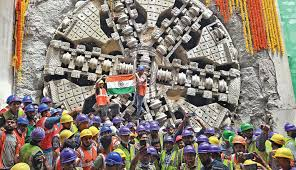face: (274, 156, 291, 168), (81, 134, 94, 146), (62, 120, 72, 129)
helmet: (271, 146, 294, 160), (78, 125, 99, 137), (282, 120, 295, 134), (58, 111, 73, 123), (95, 79, 106, 88)
human: (216, 118, 255, 168), (73, 123, 104, 169), (90, 77, 110, 113), (268, 145, 295, 169)
leg: (131, 94, 146, 119)
vest: (75, 143, 99, 168), (38, 117, 55, 148), (224, 147, 244, 166), (95, 87, 107, 105)
